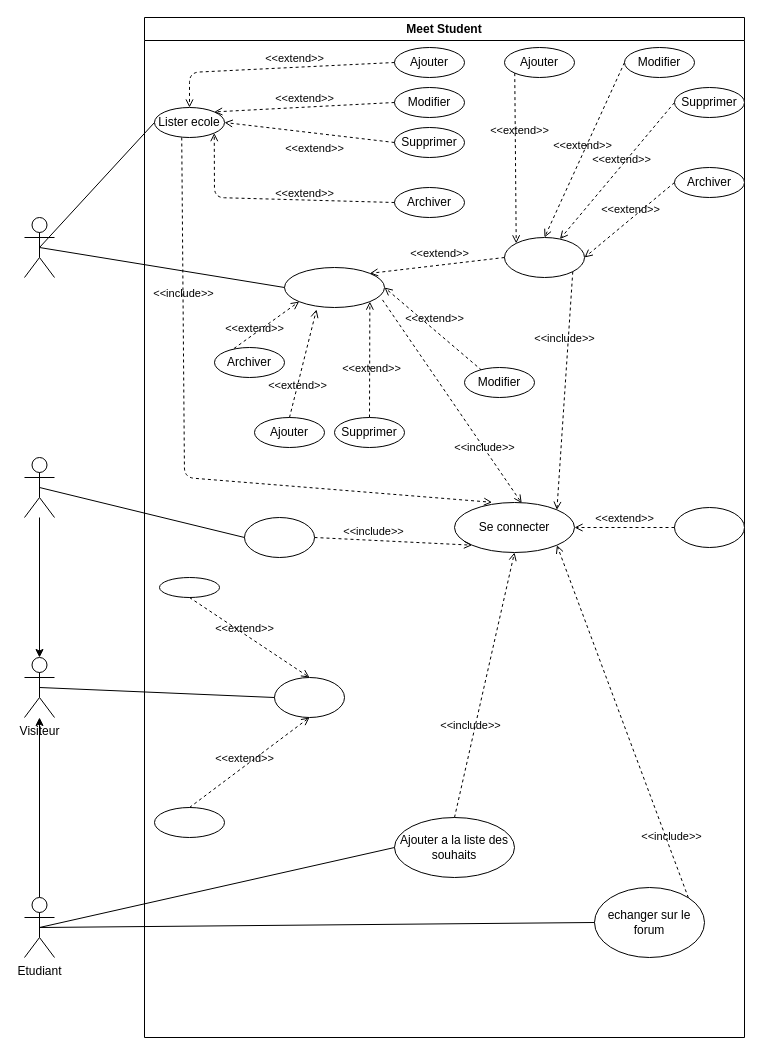
This 762x1055 diagram has some shape labels left out. The shapes that lost their labels are listed below. From the top down, each one's centre as x and y in pixels, then its label:
the point at 39,247: Admin
the point at 544,257: Lister Cours
the point at 334,287: Lister formations
the point at 39,487: Expert
the point at 279,537: evaluer
the point at 709,527: S'incrire
the point at 189,587: Liker
the point at 309,697: Consulter
the point at 189,822: Commenter
